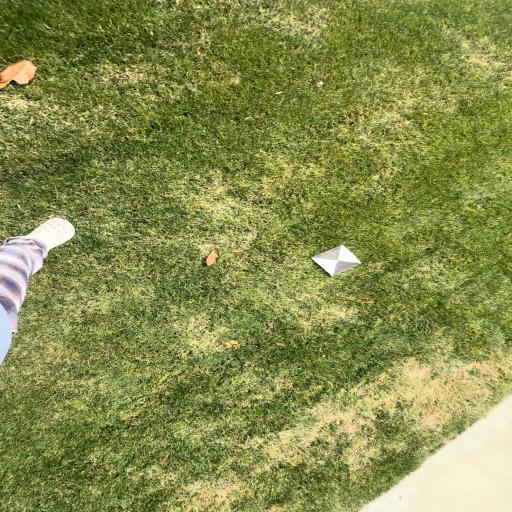target: (311, 245, 360, 276)
